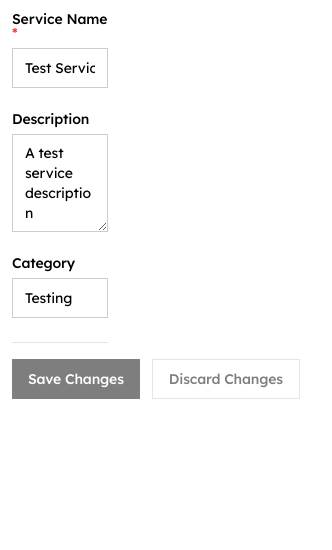
it: ServiceMetadataForm › Error Handling › displays API error message
Replace the text in the field labelled "Service Name *" with "Duplicate Service" at x=60, y=68, box [12,48,108,88]
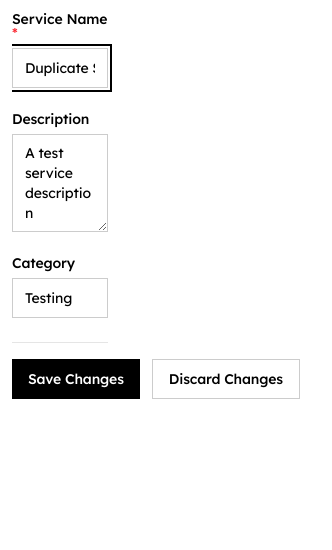
Click the button "Save Changes" at x=76, y=379, box [12,359,140,399]
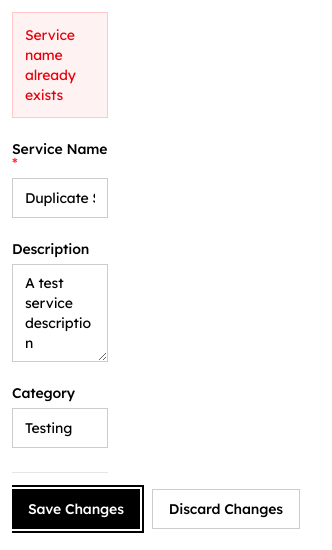
Now the text "Service name already exists" is shown, box [12,12,108,118]
